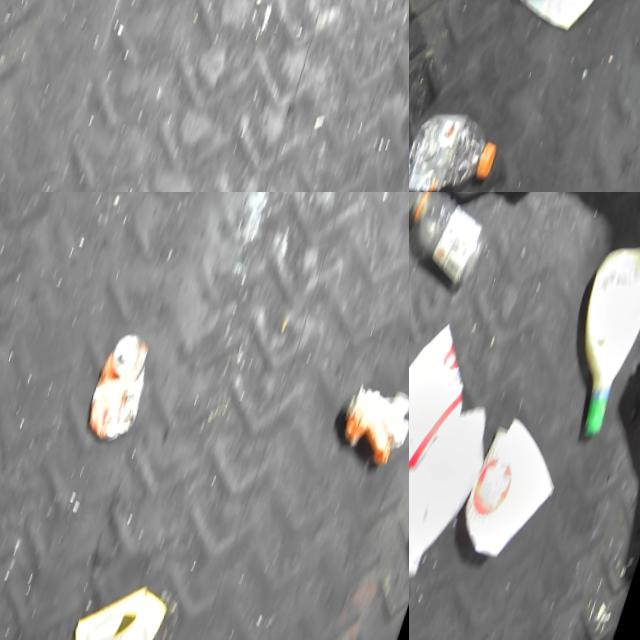can: (84, 319, 166, 445)
milk_jug: (409, 381, 506, 594), (483, 0, 640, 34)
plastic_bottle: (409, 90, 512, 192), (409, 192, 504, 284)
